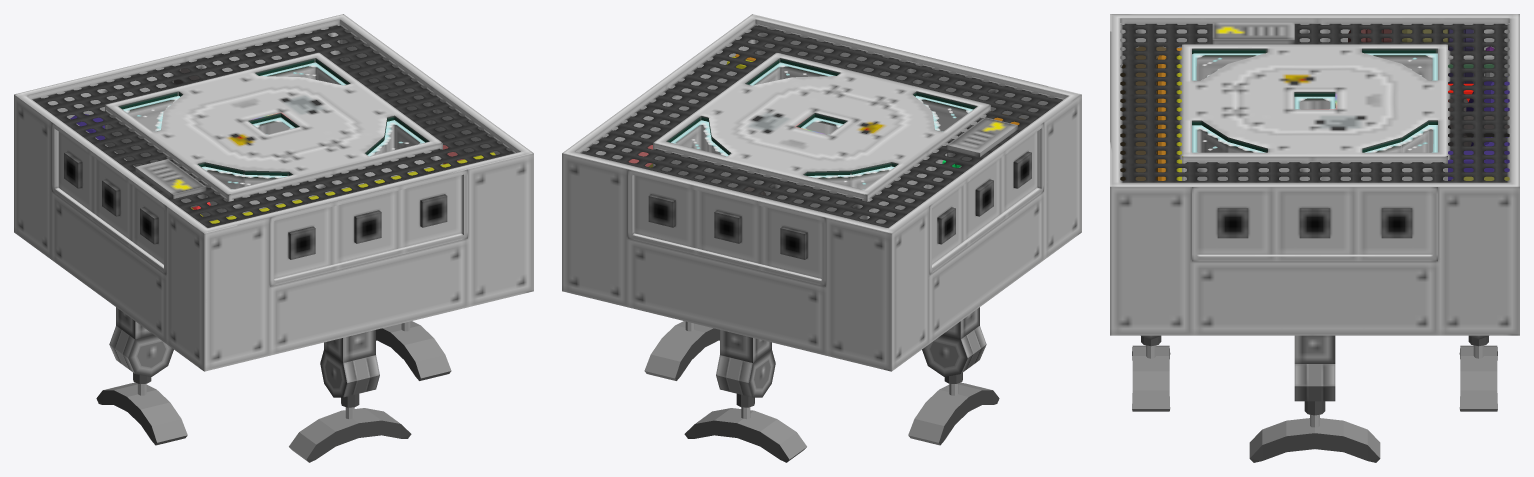
File: docking_port.obj
3 renders of one model, left to right at view 1: azimuth 30°, elevation 25°; view 2: azimuth 150°, elevation 25°; view 3: azimuth 270°, elevation 25°, orthographic. The views are drawn at different scales.
Parts seen in each view (by area): view 1: Port, ArmZN, ArmXN, ArmXP; view 2: Port, ArmZP, ArmXN, ArmXP; view 3: Port, ArmXP, ArmZN, ArmZP.
Part boxes in pixels (box(x1,y1,x2,y2)): Port: box(14, 14, 533, 397); ArmZN: box(289, 393, 411, 462); ArmXN: box(96, 372, 187, 445); ArmXP: box(376, 321, 451, 380); Port: box(562, 14, 1081, 397); ArmZP: box(684, 393, 806, 462); ArmXN: box(908, 372, 999, 445); ArmXP: box(644, 321, 719, 380); Port: box(1110, 14, 1519, 401); ArmXP: box(1249, 401, 1380, 462); ArmZN: box(1132, 336, 1170, 411); ArmZP: box(1459, 336, 1497, 411).
Bounding box in the file's own units: 5 × 3.84 × 5.
